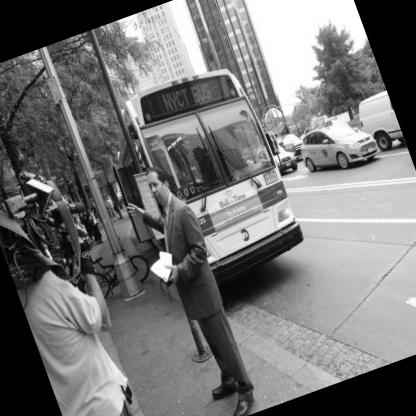bus: (57, 47, 320, 321)
car: (288, 102, 395, 195)
